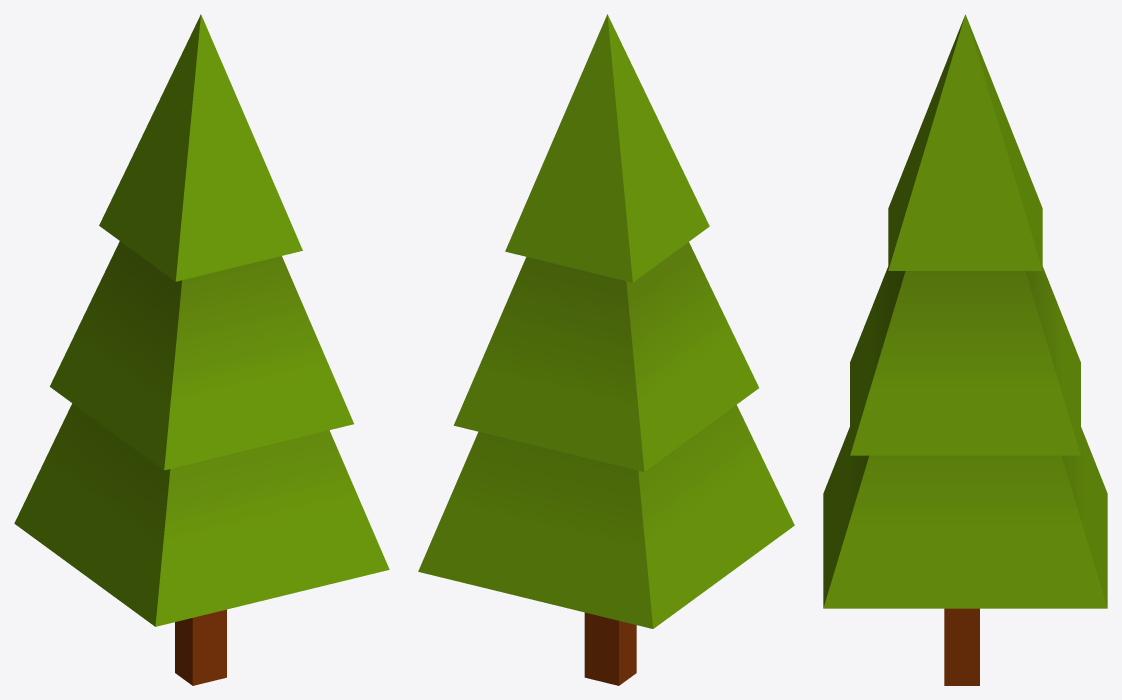
Rendered from Tree 01.FBX.
3 views of the same model, side by side, from view 1: azimuth 30°, elevation 25°; view 2: azimuth 150°, elevation 25°; view 3: azimuth 270°, elevation 25° (orthographic).
Visible parts, largest first — view 1: Box001; view 2: Box001; view 3: Box001.
Part boxes in pixels (bbox=[...]): Box001: bbox=[14, 14, 389, 685]; Box001: bbox=[418, 14, 794, 685]; Box001: bbox=[823, 14, 1107, 685].
Bounding box in the file's own units: 4.7 × 12.65 × 4.9.
